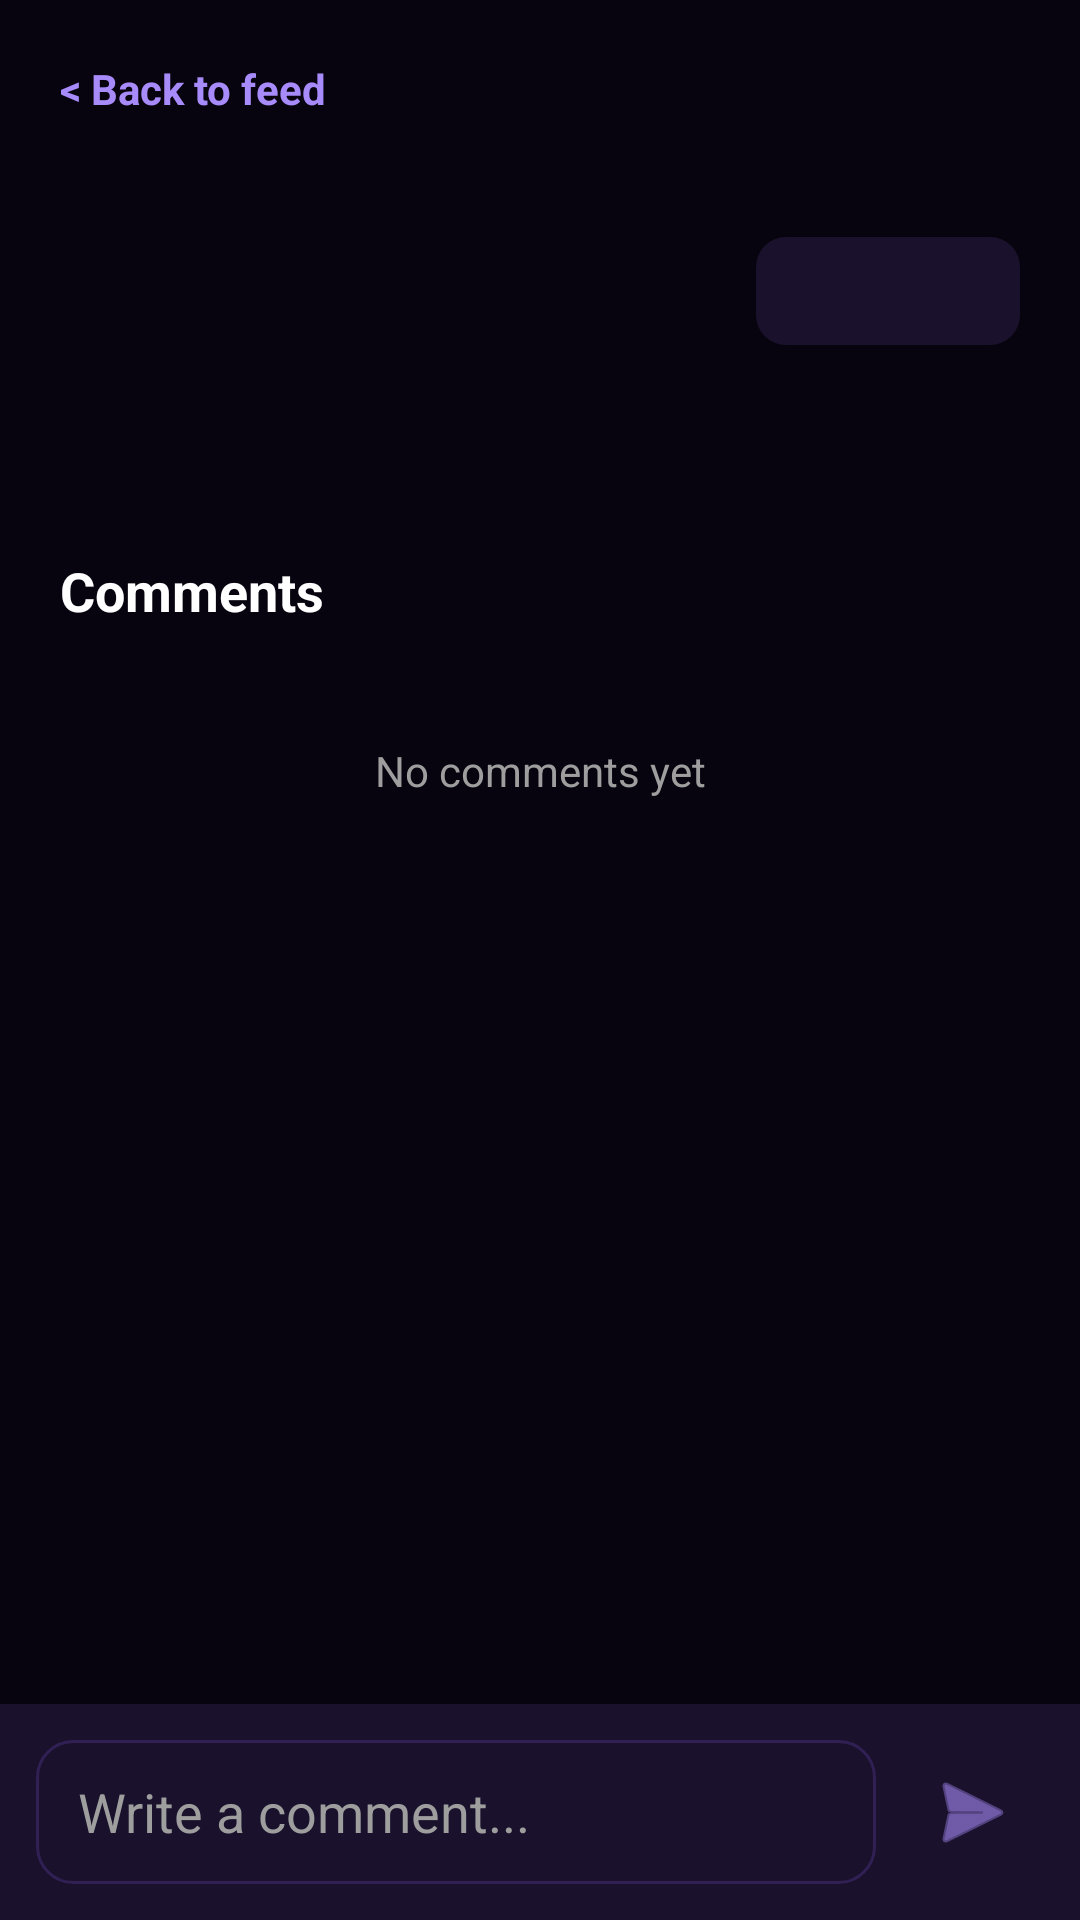

Screen size 1080x1920. Icon name, then its center in pixels as point (x, y):
Send comment: point (973, 1812)
